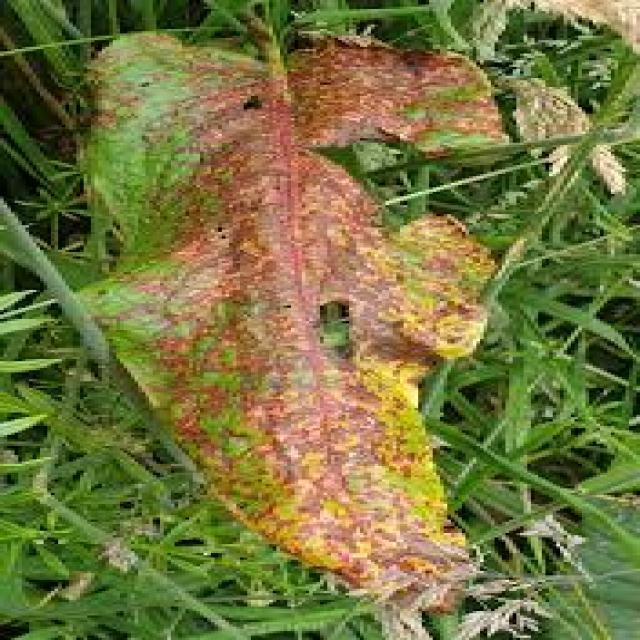organic waste: (65, 15, 640, 636)
